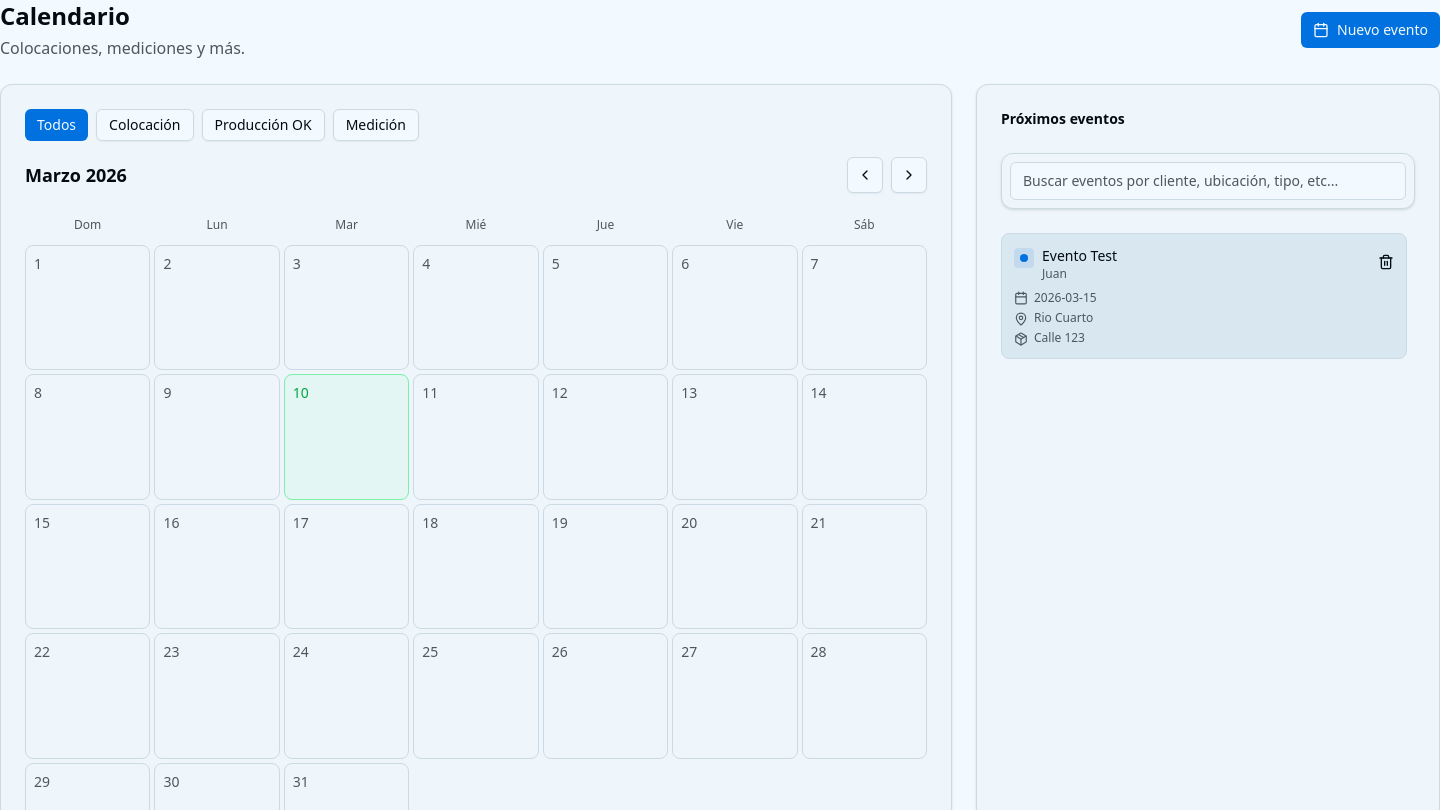
CalendarView › opens create event modal when clicking "Nuevo evento"
Step 1. Click the button "Nuevo evento" → (1371, 30), box top-left (1301, 12), bottom-right (1439, 48)
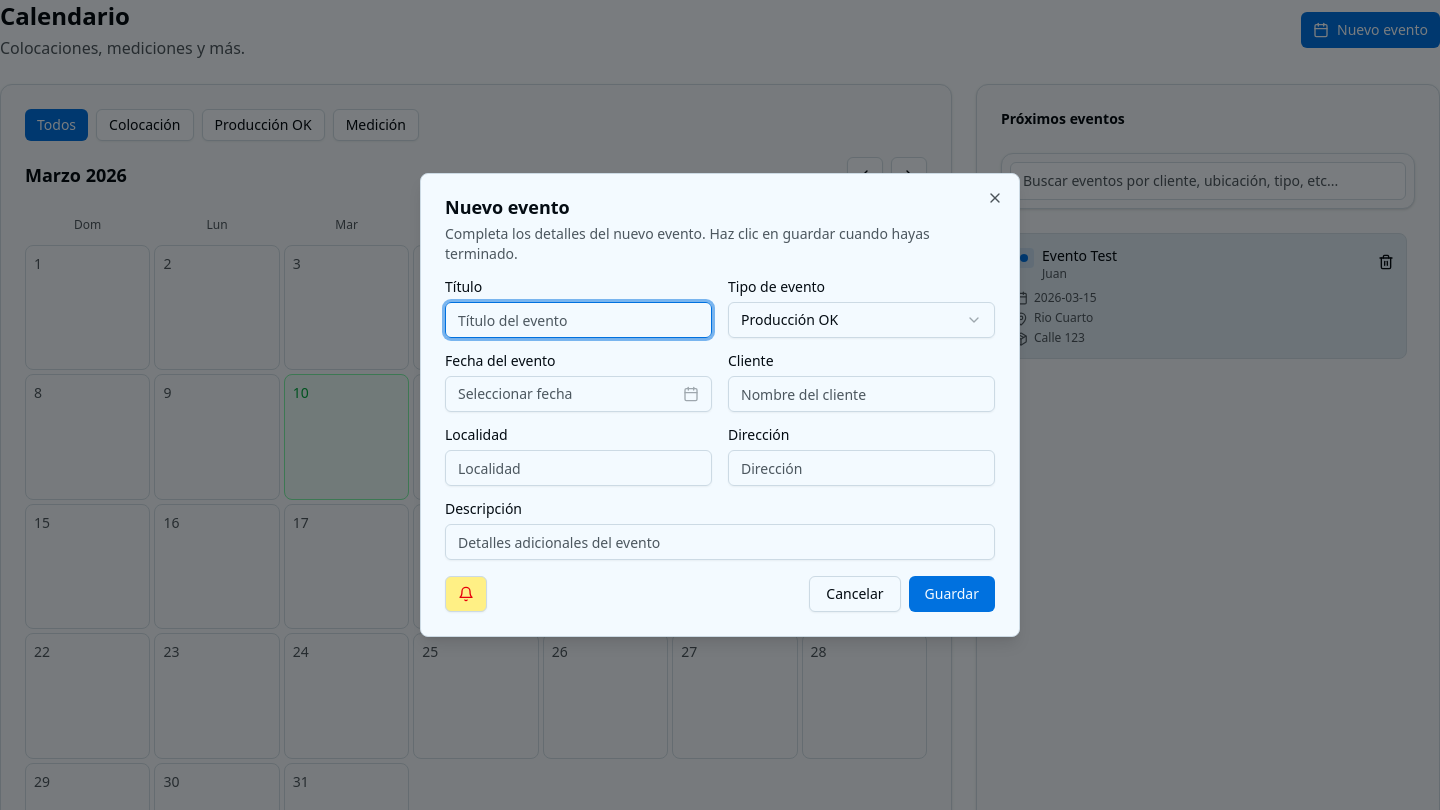
Expected: the button "Guardar" is shown, top-left (908, 576), bottom-right (995, 612)
